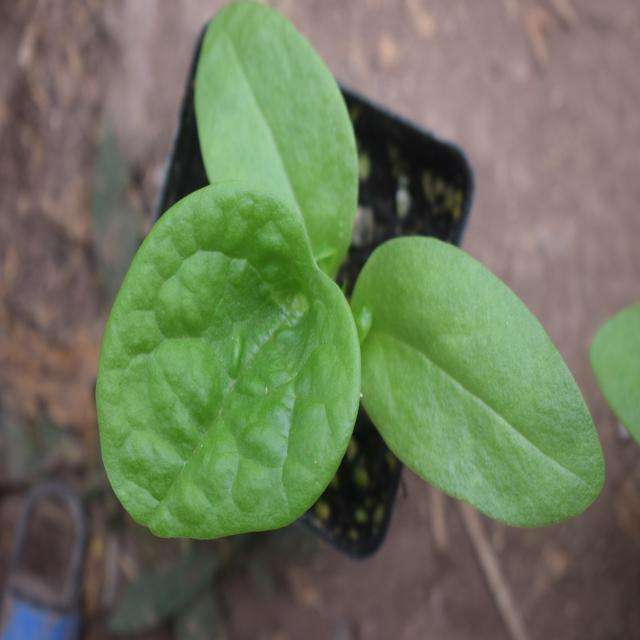Ceylon spinach: (103, 22, 591, 556)
